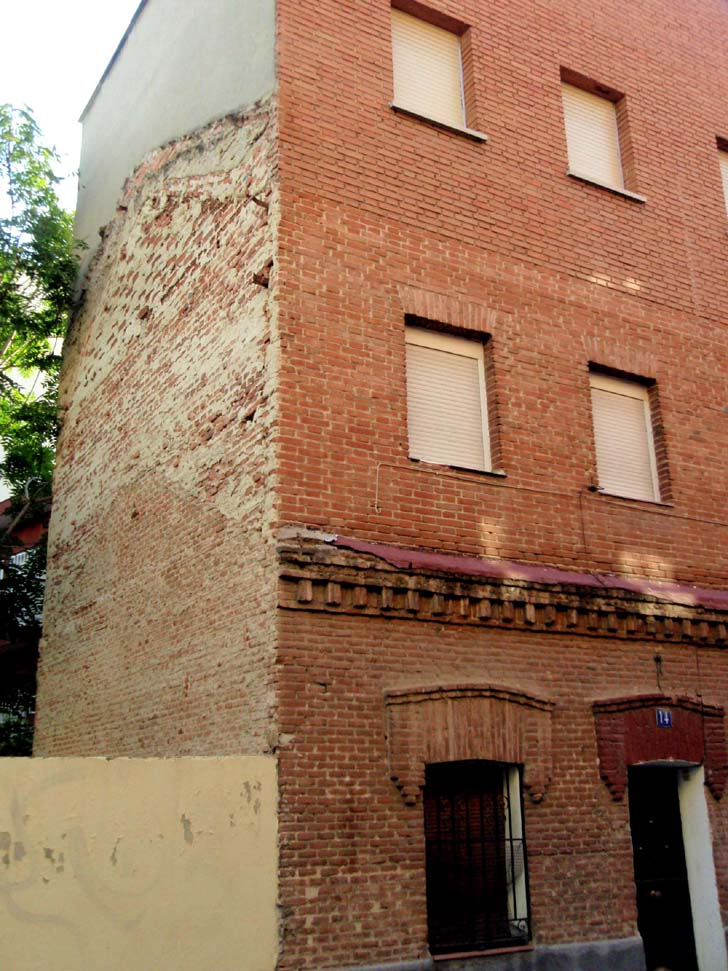Arbol: (2, 142, 61, 745)
Muro: (77, 5, 720, 971), (2, 757, 276, 971)
